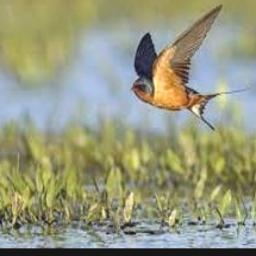Swallow: (131, 4, 250, 131)
